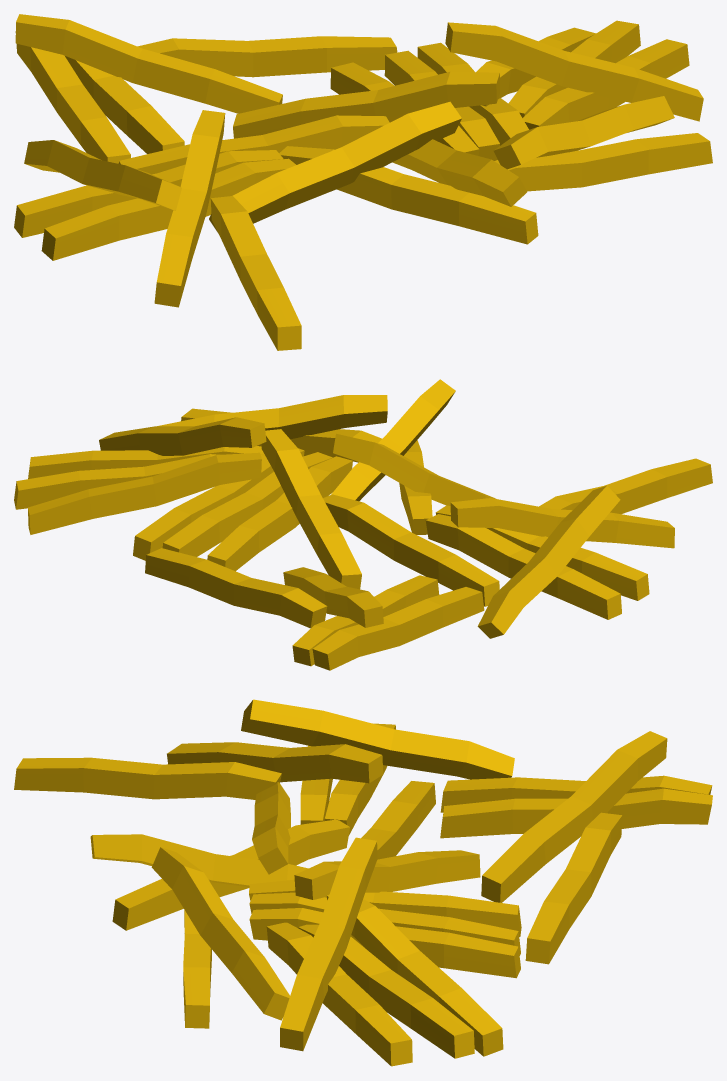
File: fries.fbx
3 views of the same model, one above another, from view 1: azimuth 30°, elevation 25°; view 2: azimuth 150°, elevation 25°; view 3: azimuth 270°, elevation 25° (orthographic). The views are drawn at different scales.
Visible parts, largest first — view 1: Cube.019; view 2: Cube.019; view 3: Cube.019.
Boxes of the visible parts, bbox=[...] form: Cube.019: bbox=[14, 14, 712, 350]; Cube.019: bbox=[14, 379, 712, 670]; Cube.019: bbox=[14, 699, 712, 1066].
Bounding box in the file's own units: 3969 × 689 × 3627.
